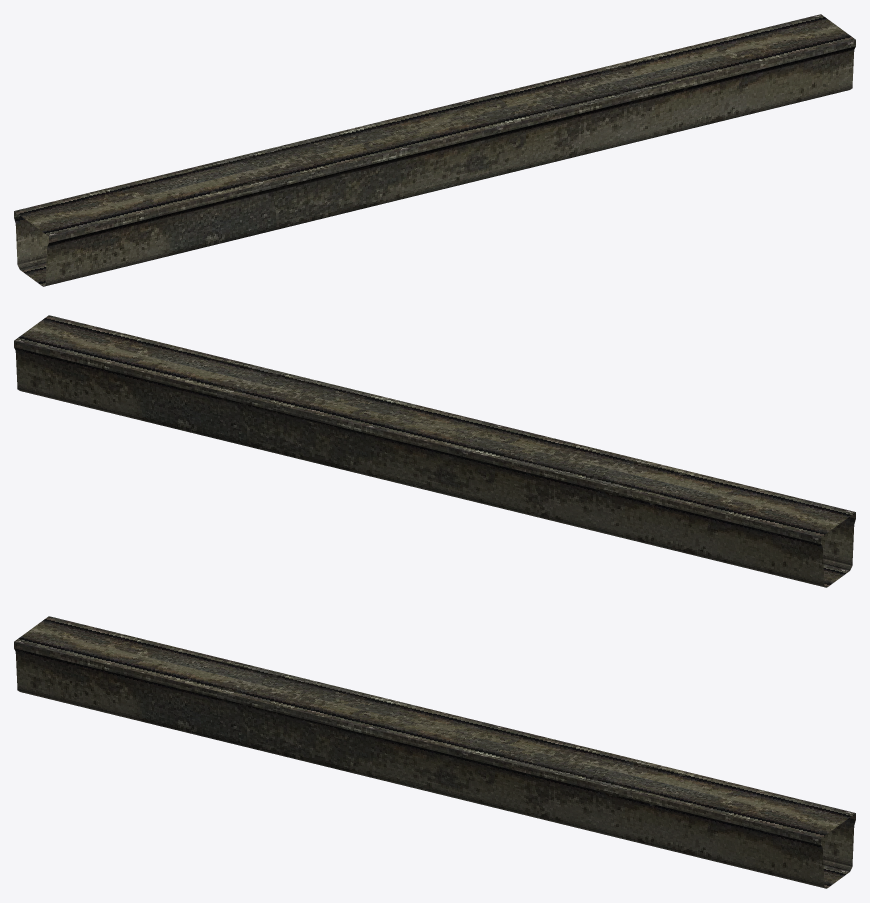
Rendered from beam_hl_1.glb.
3 renders of one model, top to bottom at view 1: azimuth 30°, elevation 25°; view 2: azimuth 150°, elevation 25°; view 3: azimuth 330°, elevation 25°, orthographic.
Parts seen in each view (by area): view 1: beam_hl_1; view 2: beam_hl_1; view 3: beam_hl_1.
Part boxes in pixels (bbox=[...]): beam_hl_1: bbox=[14, 14, 855, 286]; beam_hl_1: bbox=[14, 315, 855, 587]; beam_hl_1: bbox=[14, 616, 855, 888].
Size of the model in its own units: 4 by 0.258 by 0.3.
1 material, 1 textured.
